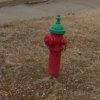Hydrant: (36, 7, 81, 83)
